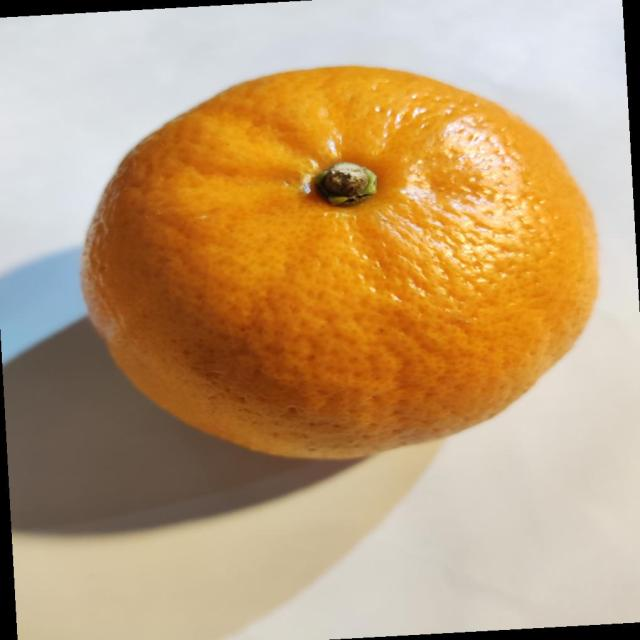fresh orange: (80, 63, 600, 462)
